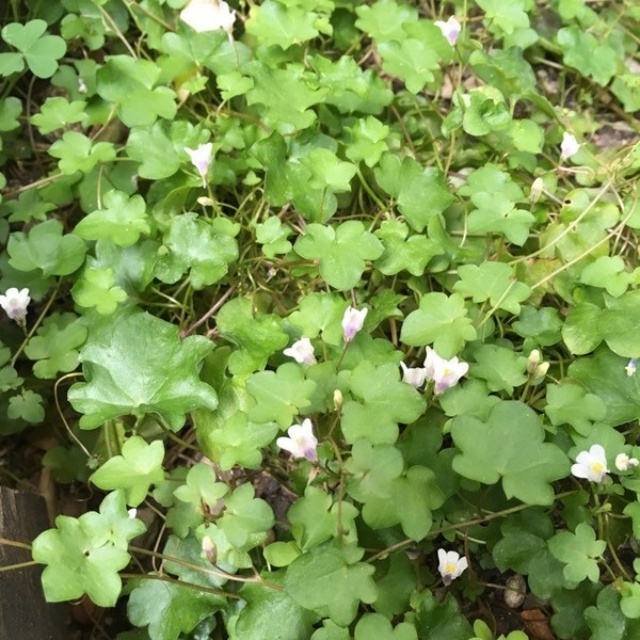obstacle: (113, 48, 625, 557)
